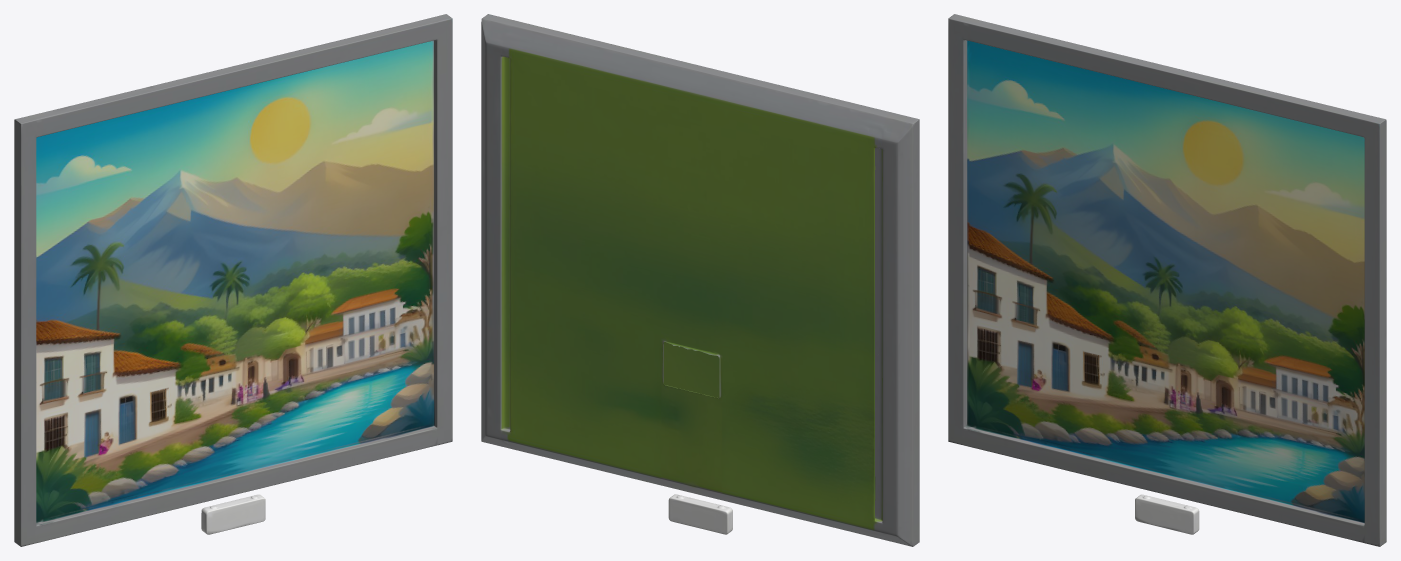
The model's file is cuadro-valledupar.glb.
The picture shows the model from 3 angles, left to right: view 1: azimuth 30°, elevation 25°; view 2: azimuth 150°, elevation 25°; view 3: azimuth 330°, elevation 25°; orthographic projection.
Visible parts, largest first — view 1: node_0; view 2: node_0; view 3: node_0.
Boxes of the visible parts, <box> form: node_0: <box>14,14,452,546</box>; node_0: <box>481,14,919,546</box>; node_0: <box>948,14,1386,546</box>.
Bounding box in the file's own units: 0.8463 × 0.8572 × 0.045.
Materials: 1 (1 with a texture image).
